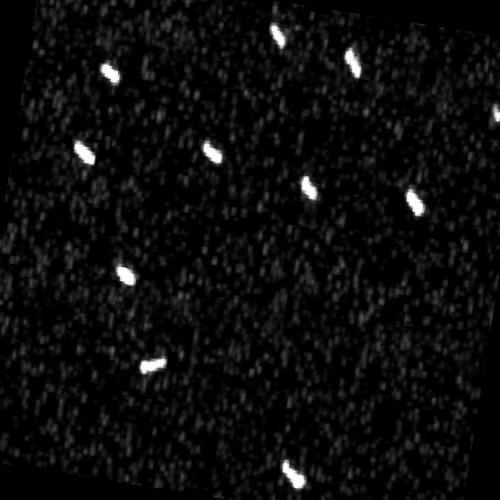ship: (282, 459, 307, 493), (344, 46, 363, 82), (138, 355, 169, 377), (73, 140, 96, 167), (268, 21, 288, 51), (406, 187, 426, 217), (99, 61, 122, 87), (201, 140, 224, 166), (113, 263, 137, 287), (299, 175, 319, 201), (491, 102, 500, 125)
